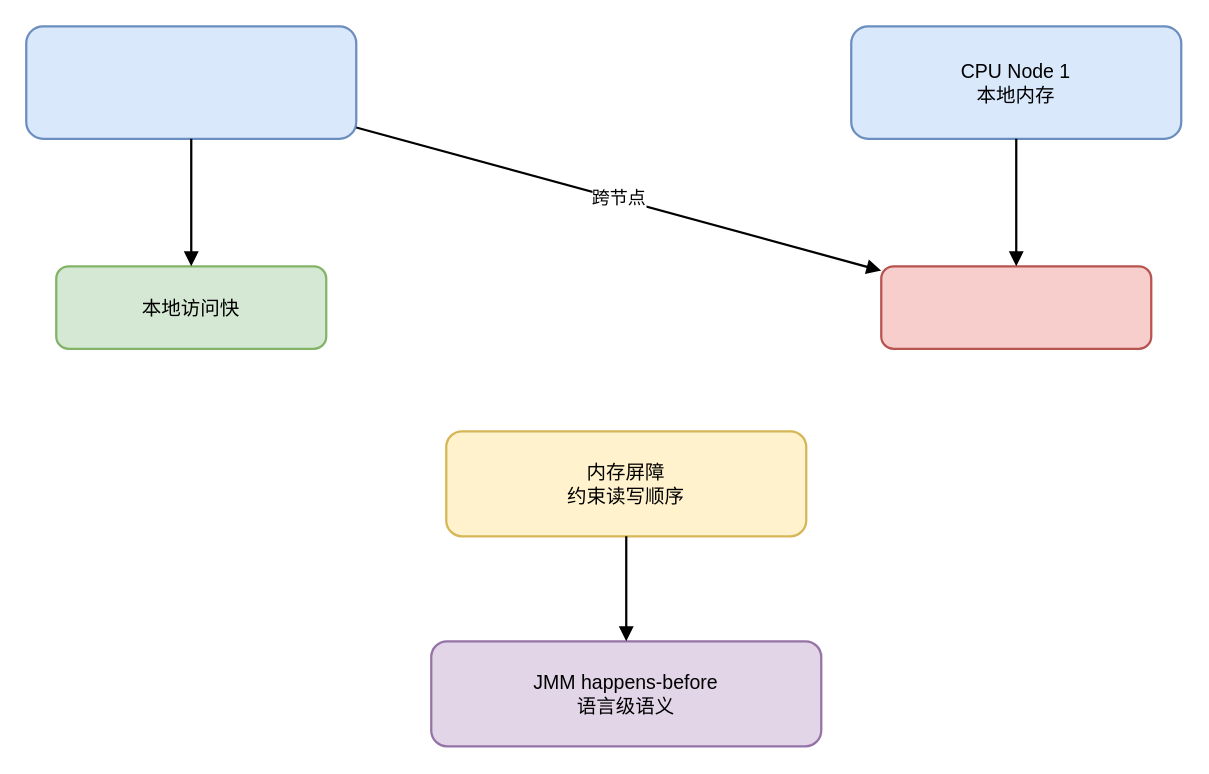
The diagram is 1209 pixels wide and 774 high, and some of its shapes have lost their labels. The shapes that lost their labels are listed below. From the top down, each one's box as (x1, y1, x2, y2) in pixels, then its label:
(24, 24, 357, 139): CPU Node 0 本地内存
(879, 264, 1152, 349): 远端访问慢
